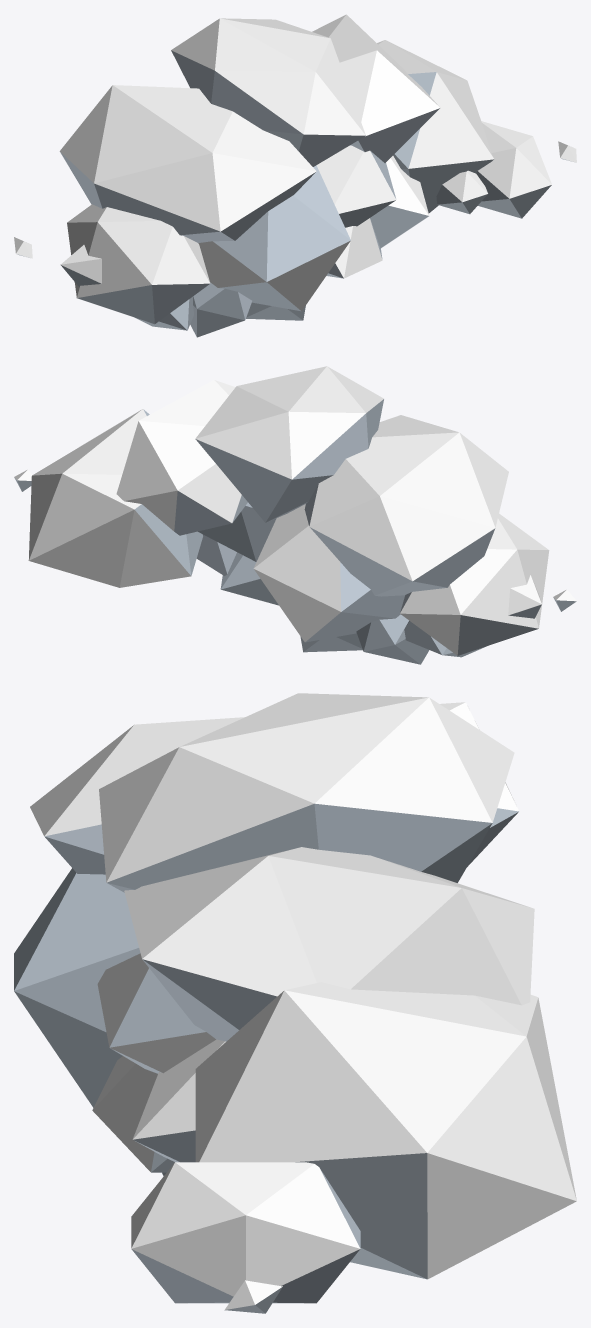
File: Cloud3.fbx
The picture shows the model from 3 angles, top to bottom: view 1: azimuth 30°, elevation 25°; view 2: azimuth 150°, elevation 25°; view 3: azimuth 270°, elevation 25°; orthographic projection. The views are drawn at different scales.
Parts seen in each view (by area): view 1: Cloud3; view 2: Cloud3; view 3: Cloud3.
Part boxes in pixels (box(x1,y1,x2,y2)): Cloud3: box(14, 14, 576, 337); Cloud3: box(14, 366, 576, 664); Cloud3: box(14, 693, 576, 1313).
Bounding box in the file's own units: 2.59 × 1.18 × 1.22.
